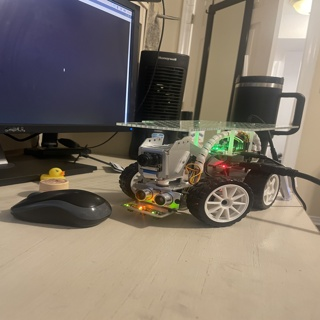vehicle: (115, 117, 282, 226)
